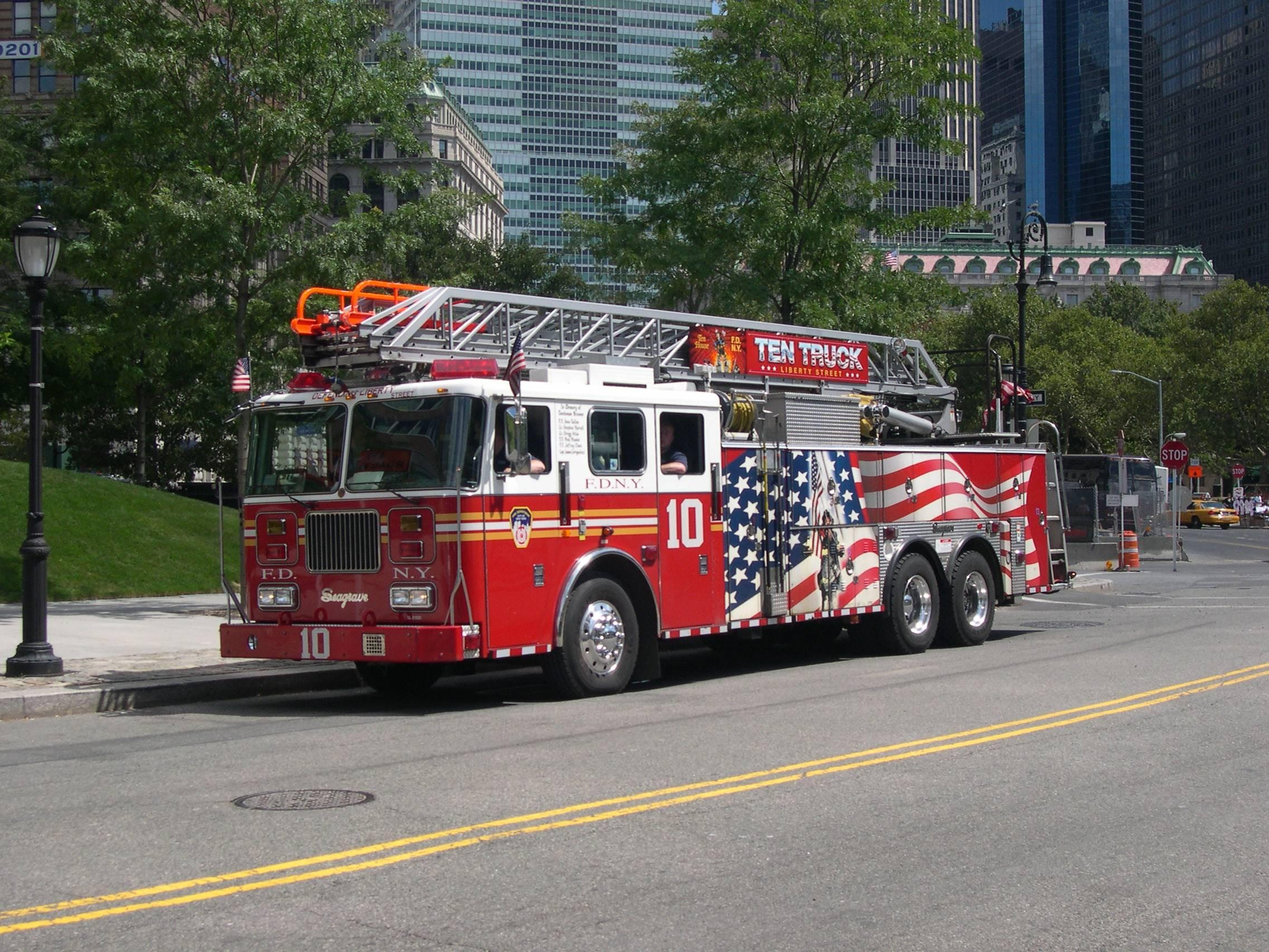Fire-engine: (220, 285, 1072, 701)
